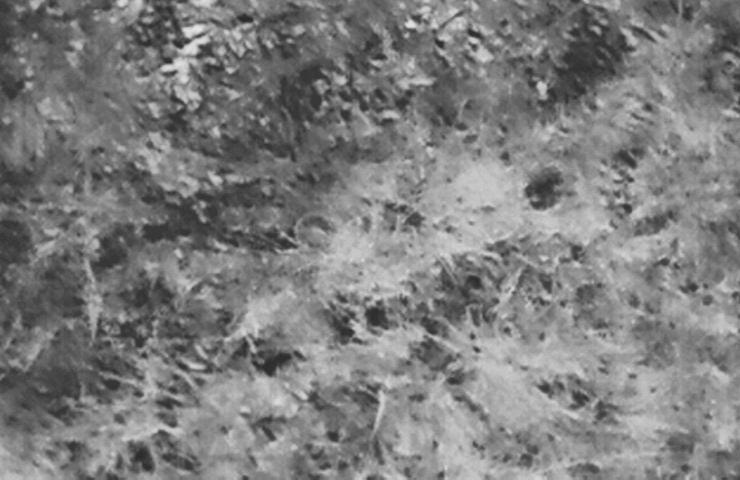landmines: (293, 211, 343, 252)
